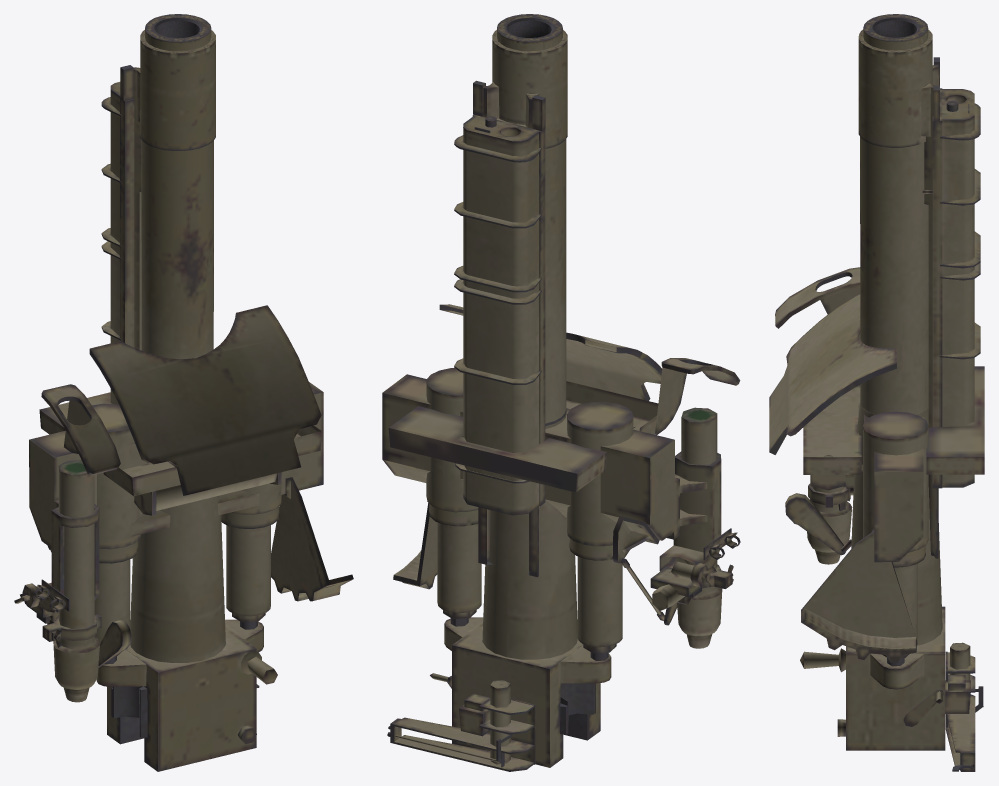
Rendered from Gun_01.glb.
3 views of the same model, side by side, from view 1: azimuth 30°, elevation 25°; view 2: azimuth 150°, elevation 25°; view 3: azimuth 270°, elevation 25° (orthographic). The views are drawn at different scales.
Visible parts, largest first — view 1: set_0_group_0; view 2: set_0_group_0; view 3: set_0_group_0.
Boxes of the visible parts, x1,y1,x2,y2 form: set_0_group_0: (14,14,353,771); set_0_group_0: (382,14,740,771); set_0_group_0: (769,14,984,771).
Bounding box in the file's own units: 0.8506 × 1.89 × 0.5288.
Materials: 1 (1 with a texture image).
